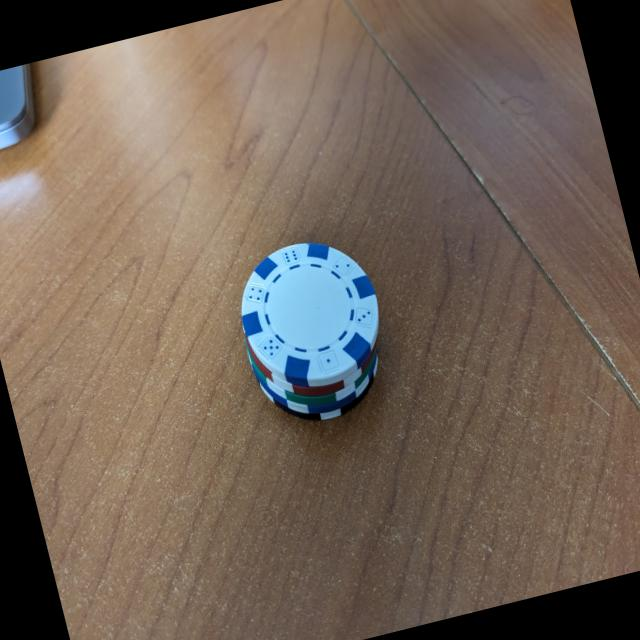chips: (239, 243, 381, 422)
